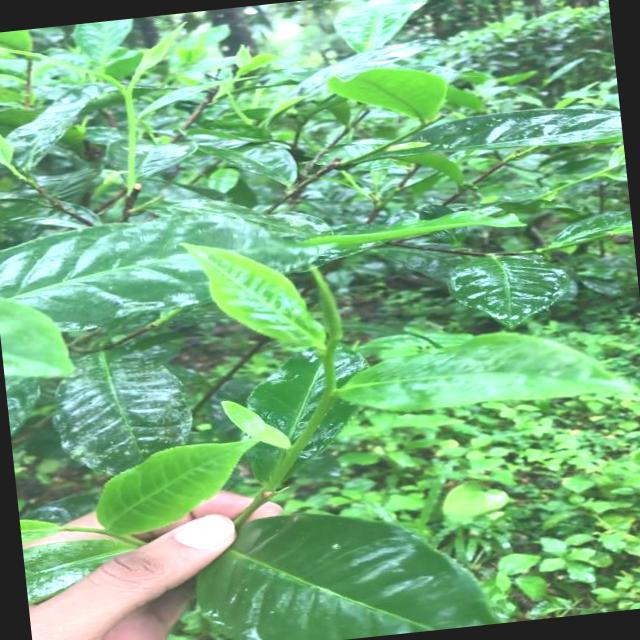Stem: (325, 392, 336, 402), (124, 91, 132, 97)
